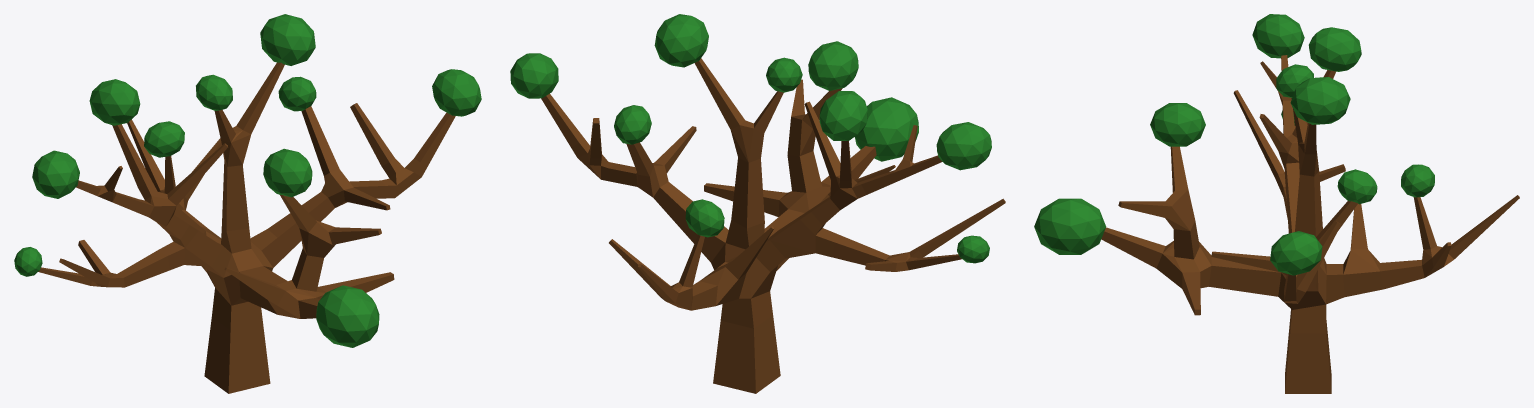
Rendered from arvore.fbx.
3 views of the same model, side by side, from view 1: azimuth 30°, elevation 25°; view 2: azimuth 150°, elevation 25°; view 3: azimuth 270°, elevation 25° (orthographic). The views are drawn at different scales.
Parts seen in each view (by area): view 1: Cube, Icosphere.002, Icosphere.004, Icosphere, Icosphere.009, Icosphere.006, Icosphere.008, Icosphere.007, Icosphere.005, Icosphere.003, Icosphere.001; view 2: Cube, Icosphere.002, Icosphere.004, Icosphere.008, Icosphere, Icosphere.006, Icosphere.009, Icosphere.007, Icosphere.003, Icosphere.005, Icosphere.001; view 3: Cube, Icosphere.002, Icosphere.004, Icosphere, Icosphere.006, Icosphere.009, Icosphere.008, Icosphere.003, Icosphere.007, Icosphere.005.
Boxes of the visible parts, left/top/right/bottom form: Cube: left=38, top=62, right=455, bottom=393; Icosphere.002: left=316, top=285, right=379, bottom=347; Icosphere.004: left=260, top=14, right=315, bottom=65; Icosphere: left=263, top=148, right=312, bottom=197; Icosphere.009: left=432, top=69, right=481, bottom=116; Icosphere.006: left=89, top=79, right=140, bottom=125; Icosphere.008: left=32, top=150, right=79, bottom=198; Icosphere.007: left=144, top=121, right=184, bottom=157; Icosphere.005: left=196, top=74, right=232, bottom=110; Icosphere.003: left=278, top=76, right=316, bottom=111; Icosphere.001: left=14, top=247, right=42, bottom=276; Cube: left=541, top=58, right=1005, bottom=393; Icosphere.002: left=855, top=97, right=918, bottom=161; Icosphere.004: left=654, top=14, right=708, bottom=67; Icosphere.008: left=936, top=122, right=991, bottom=170; Icosphere: left=808, top=41, right=858, bottom=90; Icosphere.006: left=819, top=91, right=867, bottom=140; Icosphere.009: left=510, top=53, right=558, bottom=98; Icosphere.007: left=685, top=199, right=724, bottom=237; Icosphere.003: left=614, top=105, right=651, bottom=144; Icosphere.005: left=766, top=57, right=802, bottom=92; Icosphere.001: left=957, top=235, right=989, bottom=263; Cube: left=1101, top=55, right=1519, bottom=393; Icosphere.002: left=1034, top=198, right=1106, bottom=254; Icosphere.004: left=1290, top=77, right=1350, bottom=124; Icosphere: left=1150, top=103, right=1205, bottom=146; Icosphere.006: left=1308, top=27, right=1361, bottom=71; Icosphere.009: left=1270, top=231, right=1322, bottom=275; Icosphere.008: left=1252, top=14, right=1304, bottom=58; Icosphere.003: left=1337, top=169, right=1377, bottom=204; Icosphere.007: left=1401, top=164, right=1434, bottom=197; Icosphere.005: left=1276, top=64, right=1313, bottom=97.
Bounding box in the file's own units: 429 × 306 × 405.
